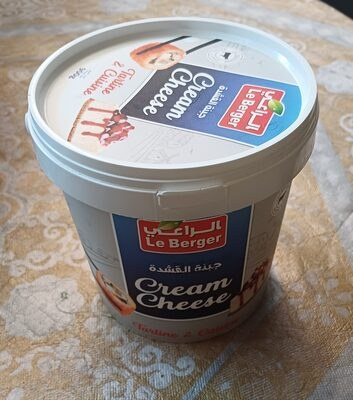Cream Cheese: (18, 20, 335, 380)
